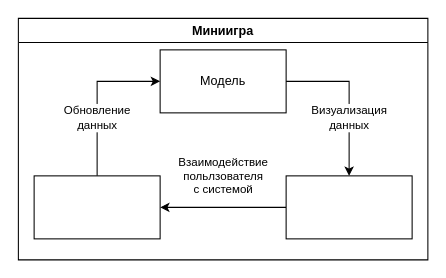
Image size: 446x278. Some labels were removed from this diagram. The shapes that lost their labels are listed below. From the top down, each one's centre as x and y in pixels, then its label:
At pixel 96 207: "Контроллер".
At pixel 348 207: "Отображение".
